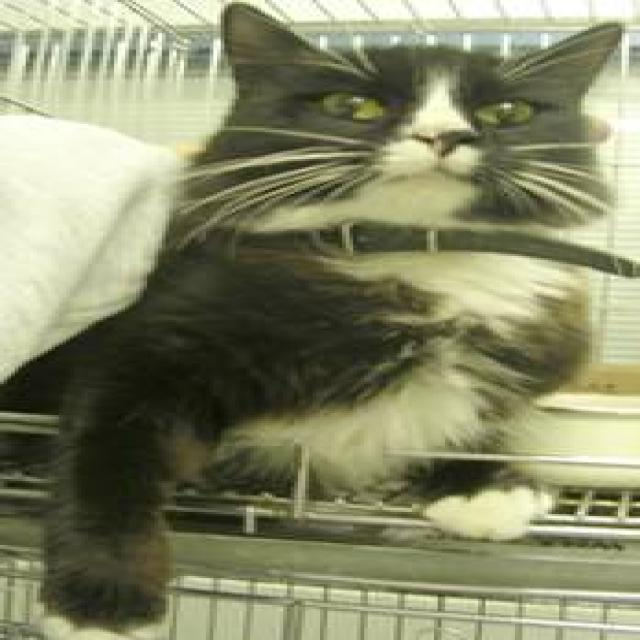cat: (0, 0, 636, 631)
